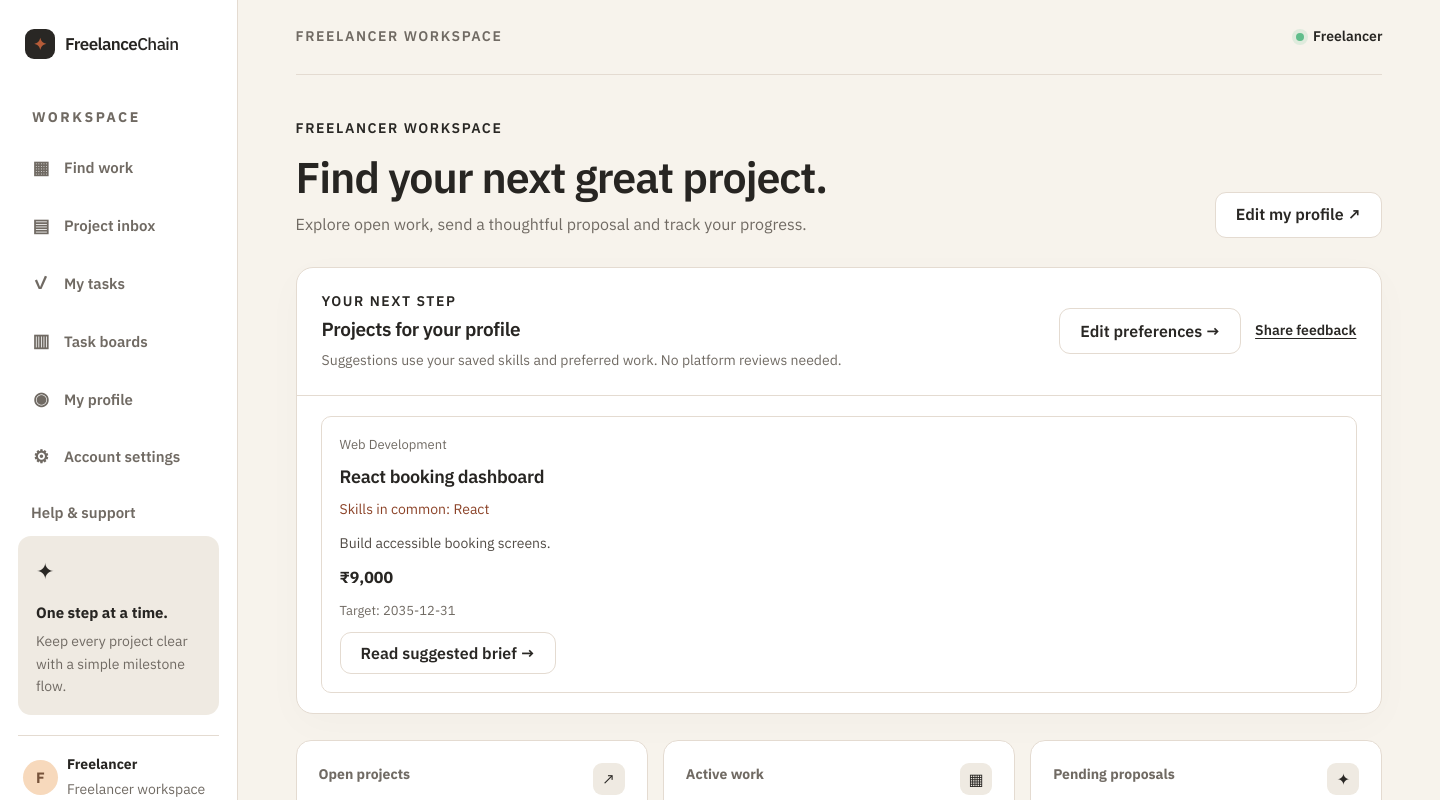
Test: a suggested brief failure offers an inline retry that opens the full brief
Click the button "Read suggested brief →".
click(448, 653)  # box [340, 632, 556, 674]
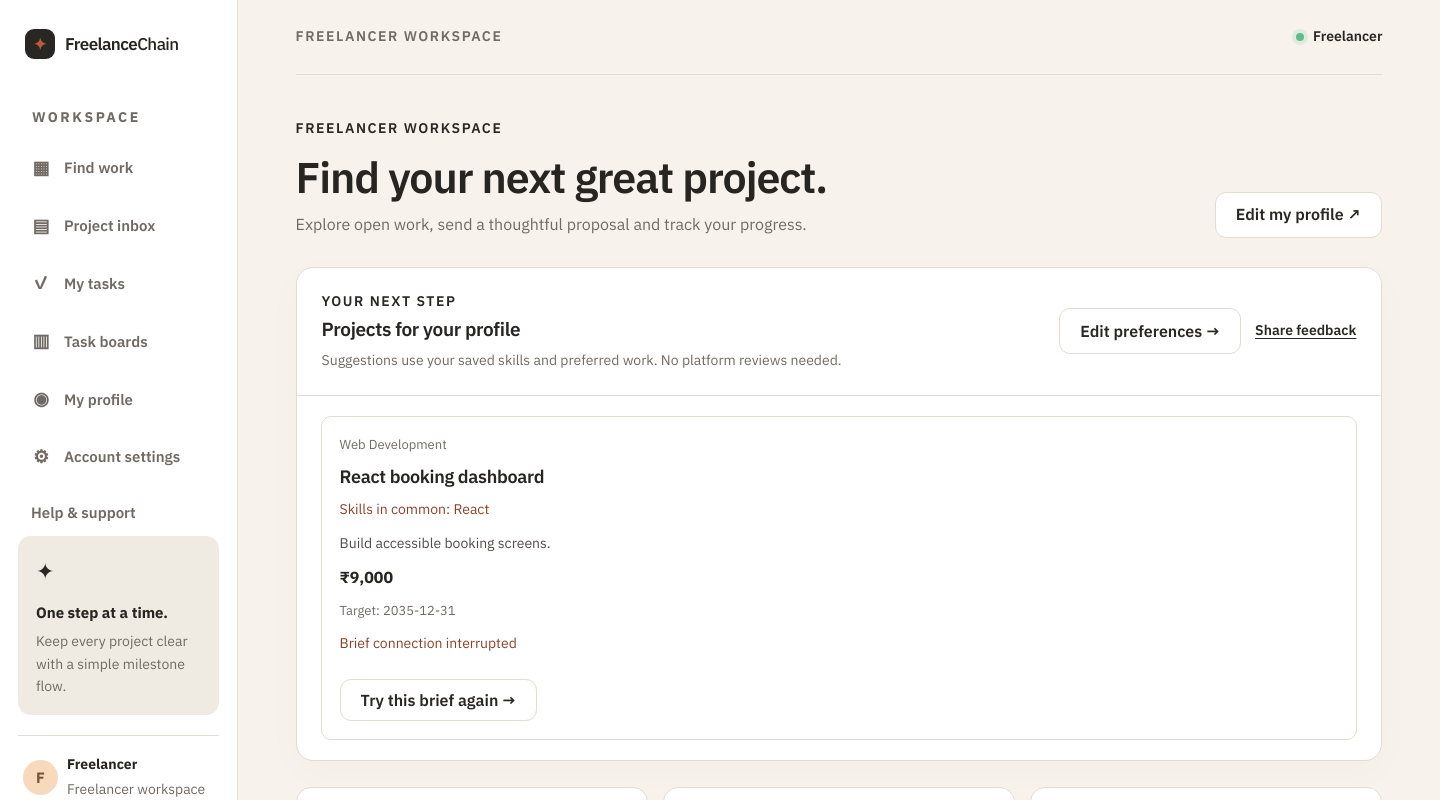
Expected: the message reads "Brief connection interrupted", [340, 634, 517, 652]
Click the button "Try this brief again →".
click(438, 700)  # box [340, 679, 537, 721]
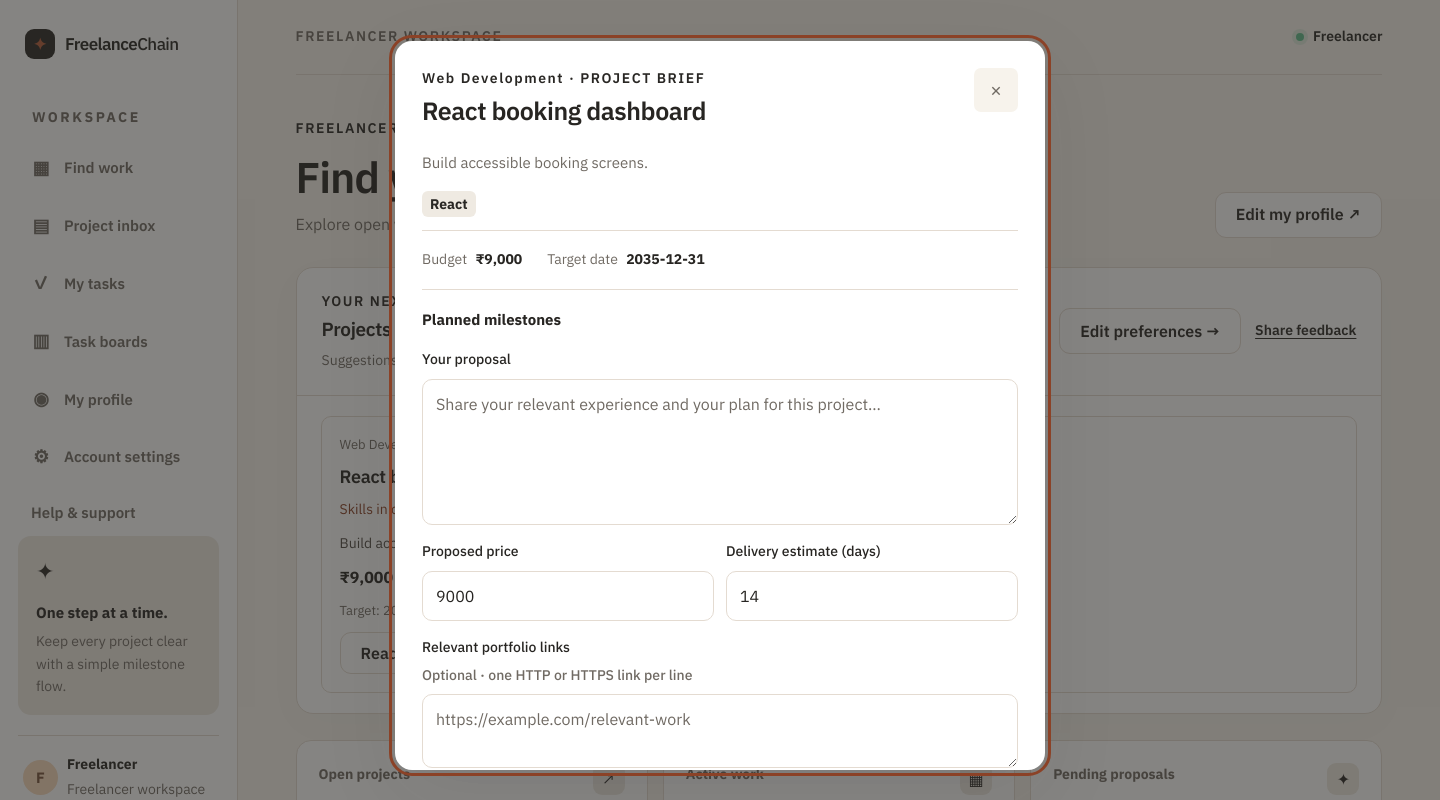
Expected: the dialog "React booking dashboard" is shown, [395, 40, 1045, 770]
Expected: the number field labelled "Proposed price" holds "9000", [422, 571, 714, 621]
